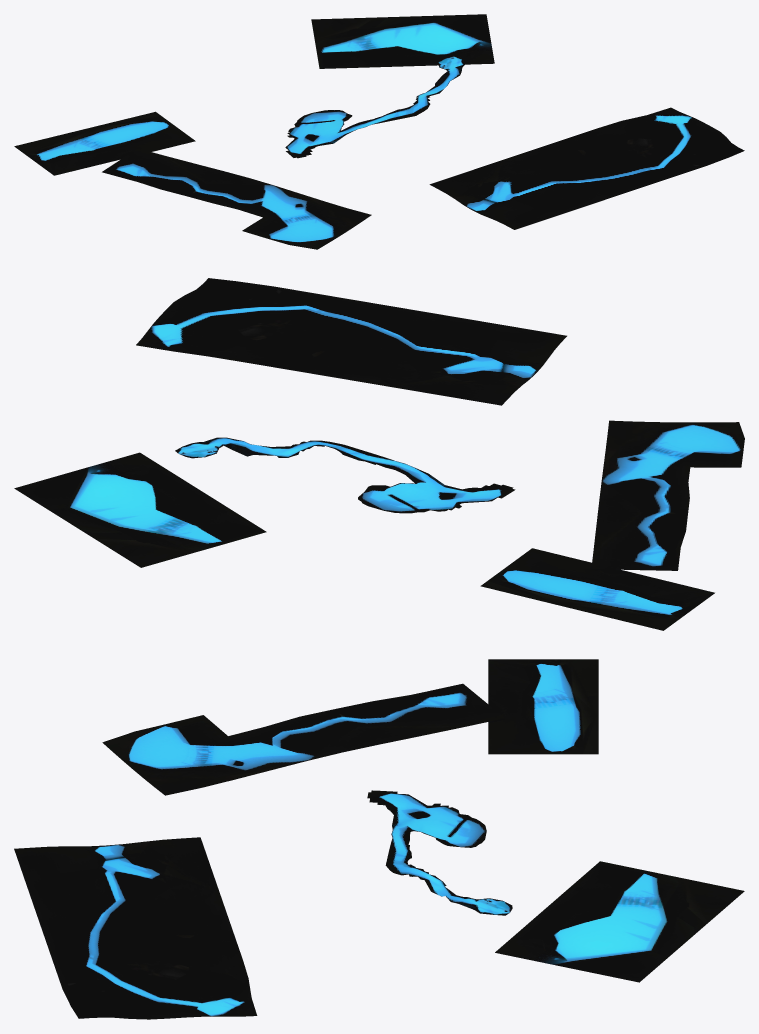
File: water2.glb
3 views of the same model, one above another, from view 1: azimuth 30°, elevation 25°; view 2: azimuth 150°, elevation 25°; view 3: azimuth 270°, elevation 25° (orthographic). The views are drawn at different scales.
Parts seen in each view (by area): view 1: water005, water004, water002, water001, water003; view 2: water005, water004, water002, water001, water003; view 3: water005, water004, water002, water001, water003.
Part boxes in pixels (x1,y1,x2,y2): water005: [429, 107, 744, 229]; water004: [102, 148, 371, 249]; water002: [311, 14, 494, 68]; water001: [14, 111, 195, 175]; water003: [285, 56, 465, 158]; water005: [136, 278, 566, 405]; water004: [591, 420, 744, 570]; water002: [14, 452, 266, 567]; water001: [480, 548, 714, 630]; water003: [175, 437, 515, 513]; water005: [14, 837, 257, 1019]; water004: [102, 683, 504, 795]; water002: [495, 861, 744, 982]; water001: [488, 659, 598, 754]; water003: [367, 790, 512, 915].
Bounding box in the file's own units: 106 × 3.38 × 90.52.
5 materials, 5 textured.
